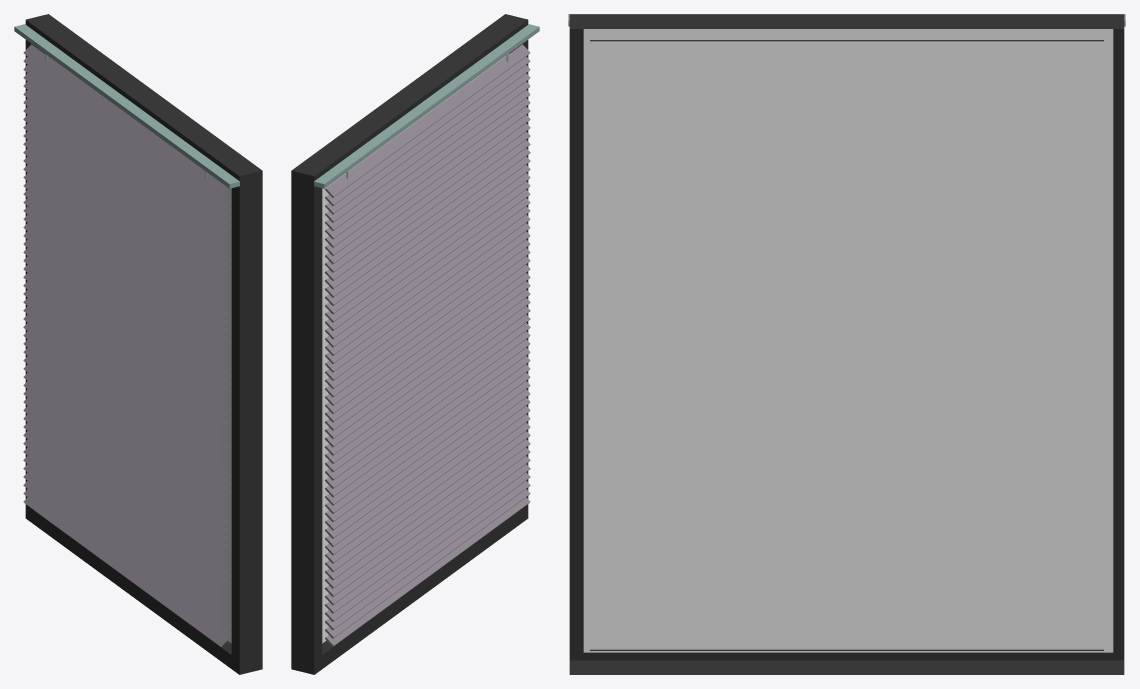
File: finestra.FBX
The picture shows the model from 3 angles, left to right: view 1: azimuth 30°, elevation 25°; view 2: azimuth 150°, elevation 25°; view 3: azimuth 270°, elevation 25°; orthographic projection. The views are drawn at different scales.
Parts seen in each view (by area): view 1: Box057, Plane001; view 2: Box057, Plane001; view 3: Plane001, Box057.
Boxes of the visible parts, x1,y1,x2,y2 form: Box057: (14, 14, 262, 674); Plane001: (45, 54, 231, 643); Box057: (291, 14, 539, 674); Plane001: (322, 54, 508, 643); Plane001: (583, 29, 1113, 652); Box057: (568, 14, 1125, 674).
Size of the model in its own units: 2.52 by 35.43 by 27.71.
